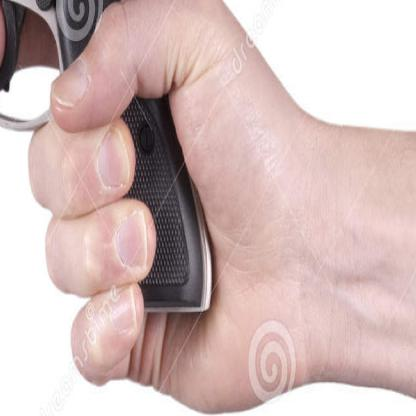gun: (0, 0, 213, 316)
